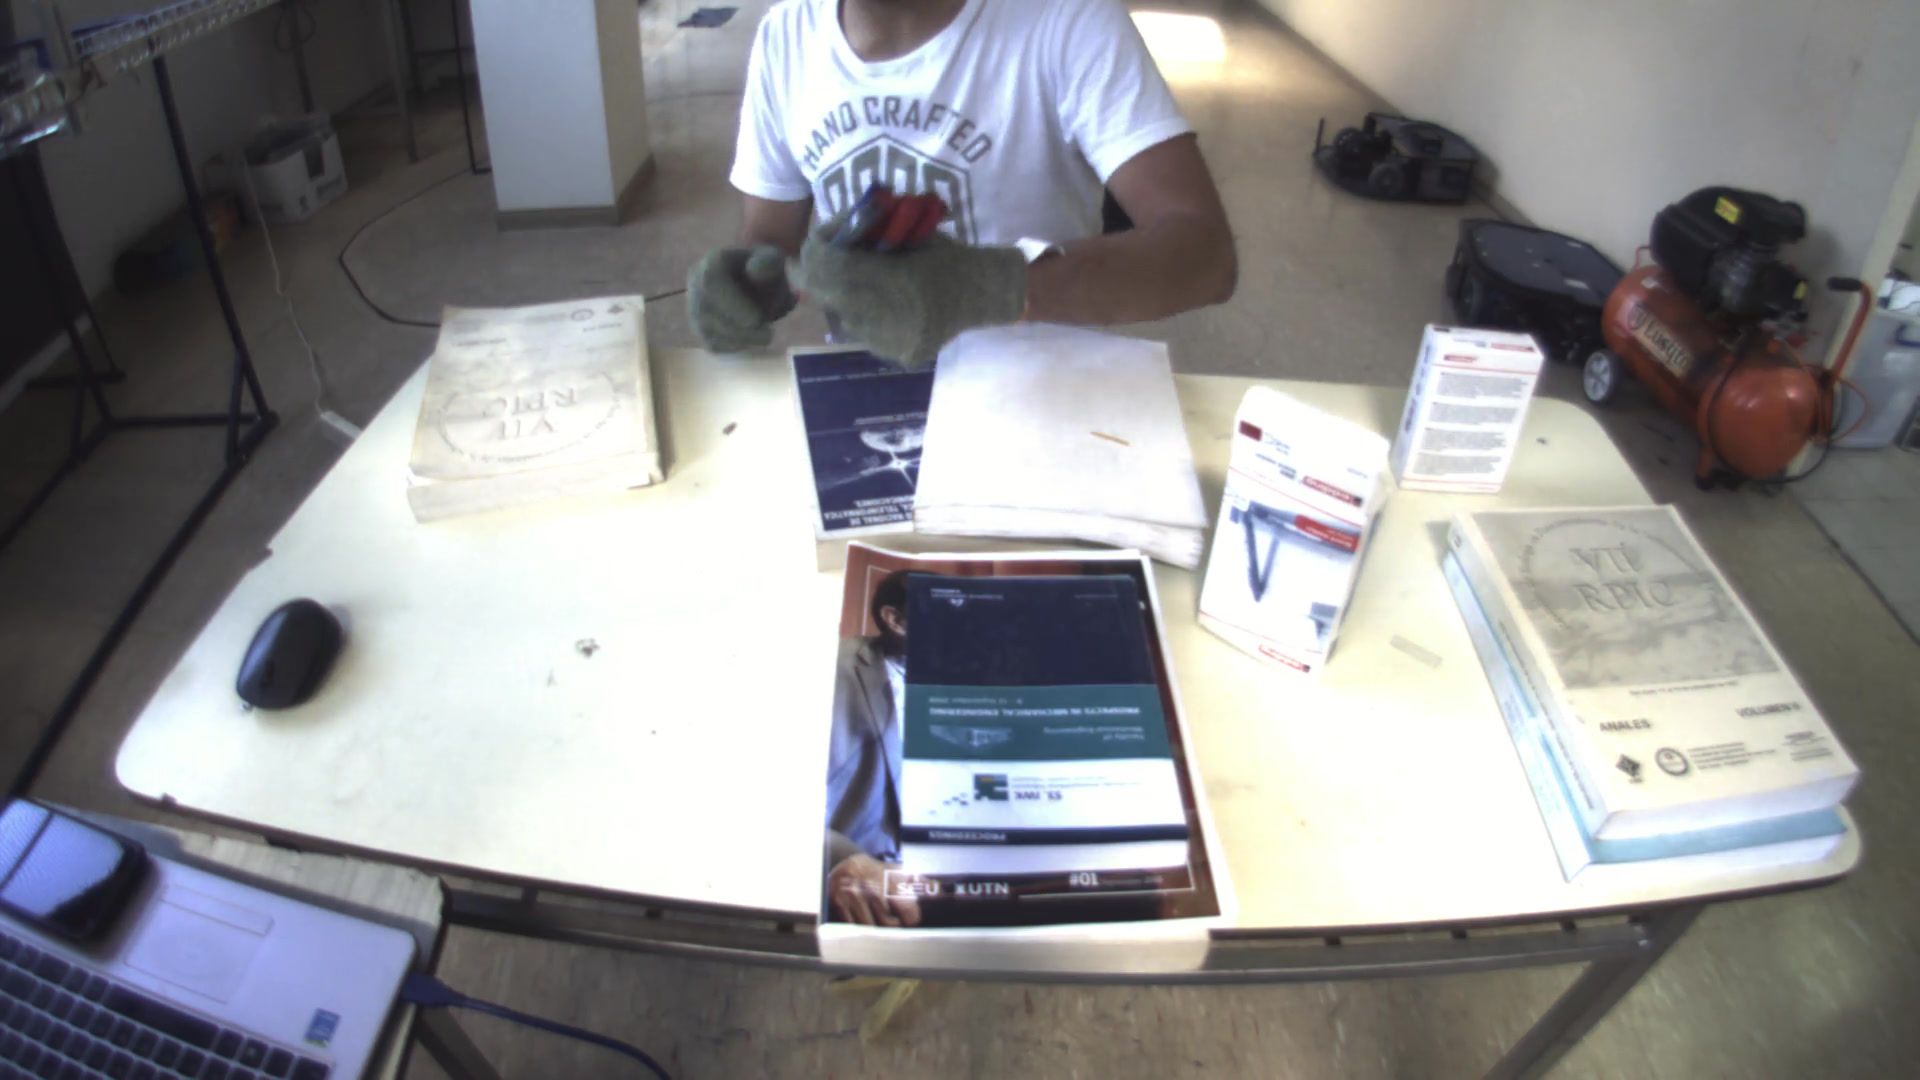hand: (785, 195, 1033, 371), (674, 239, 800, 351)
